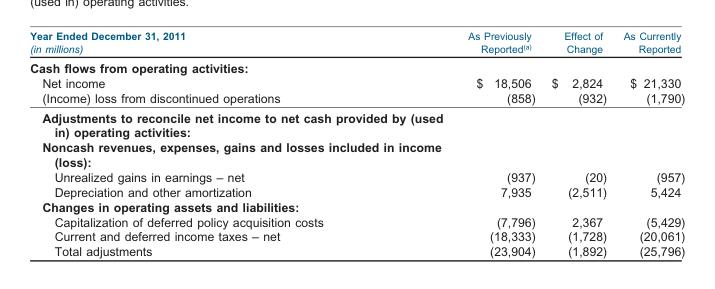table: (29, 29, 684, 257)
table column: (29, 29, 395, 257), (395, 29, 542, 257), (542, 29, 614, 257), (614, 29, 684, 257)
table column header: (29, 29, 684, 57)
table projected row header: (29, 107, 684, 139), (29, 139, 684, 169), (29, 57, 684, 74), (29, 198, 684, 213)
table row: (29, 107, 684, 139), (29, 139, 684, 169), (29, 29, 684, 57), (29, 89, 684, 107), (29, 57, 684, 74), (29, 74, 684, 89), (29, 169, 684, 184), (29, 198, 684, 213), (29, 213, 684, 228), (29, 228, 684, 243), (29, 184, 684, 198), (29, 243, 684, 257)
